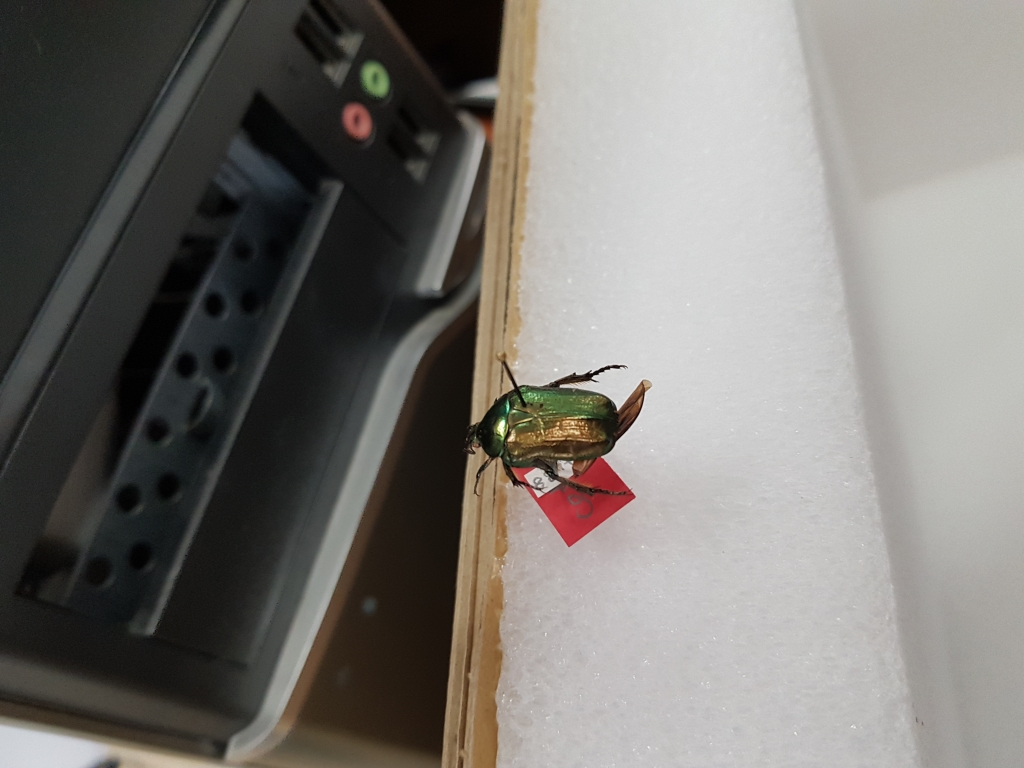Cetonia_kemali: (455, 353, 661, 511)
